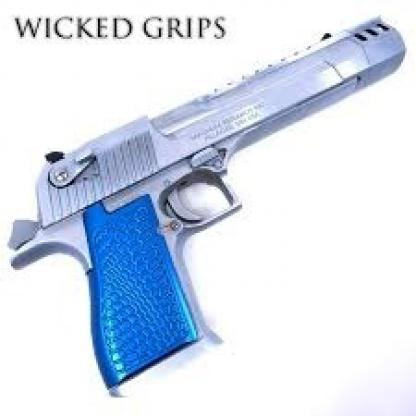Pistol: (6, 13, 407, 390)
